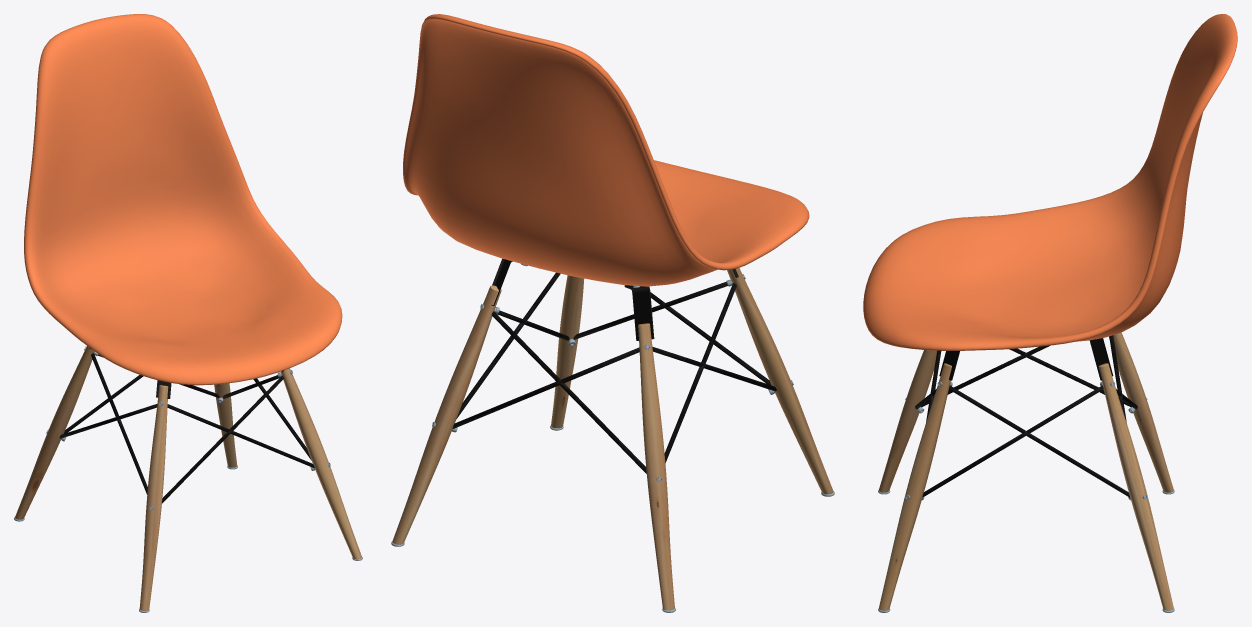
Rendered from Chair GLB.glb.
3 renders of one model, left to right at view 1: azimuth 30°, elevation 25°; view 2: azimuth 150°, elevation 25°; view 3: azimuth 270°, elevation 25°, orthographic. The views are drawn at different scales.
Parts seen in each view (by area): view 1: AM149_set5_094, Line003, Object034, Object025, Object042, Object038; view 2: AM149_set5_094, Line003, Object042, Object038, Object034, Object025, Object040; view 3: AM149_set5_094, Object038, Object025, Line003, Object042, Object034.
Part boxes in pixels (box(x1,y1,x2,y2)): AM149_set5_094: box(24, 14, 342, 385); Line003: box(59, 353, 314, 503); Object034: box(139, 385, 168, 610); Object025: box(280, 368, 361, 559); Object042: box(15, 346, 94, 519); Object038: box(214, 383, 237, 467); AM149_set5_094: box(403, 14, 809, 286); Line003: box(452, 272, 776, 473); Object042: box(638, 323, 674, 610); Object038: box(392, 285, 501, 544); Object034: box(727, 268, 833, 494); Object025: box(551, 275, 583, 428); Object040: box(624, 285, 654, 340); AM149_set5_094: box(863, 14, 1237, 350); Object038: box(1098, 363, 1173, 610); Object025: box(879, 363, 951, 610); Line003: box(915, 335, 1137, 497); Object042: box(1109, 332, 1173, 492); Object034: box(879, 350, 936, 492).
Bounding box in the file's own units: 0.465 × 0.8233 × 0.5425.
Materials: 2 (2 with a texture image).
